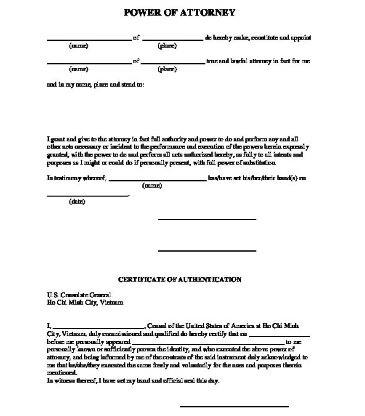textline: (155, 236, 259, 255), (179, 392, 293, 409), (156, 207, 259, 223), (131, 337, 286, 346), (45, 184, 131, 200), (51, 316, 148, 330), (107, 170, 208, 183), (43, 53, 133, 67), (42, 29, 133, 42), (140, 51, 207, 66), (141, 28, 206, 43), (249, 329, 313, 340)
